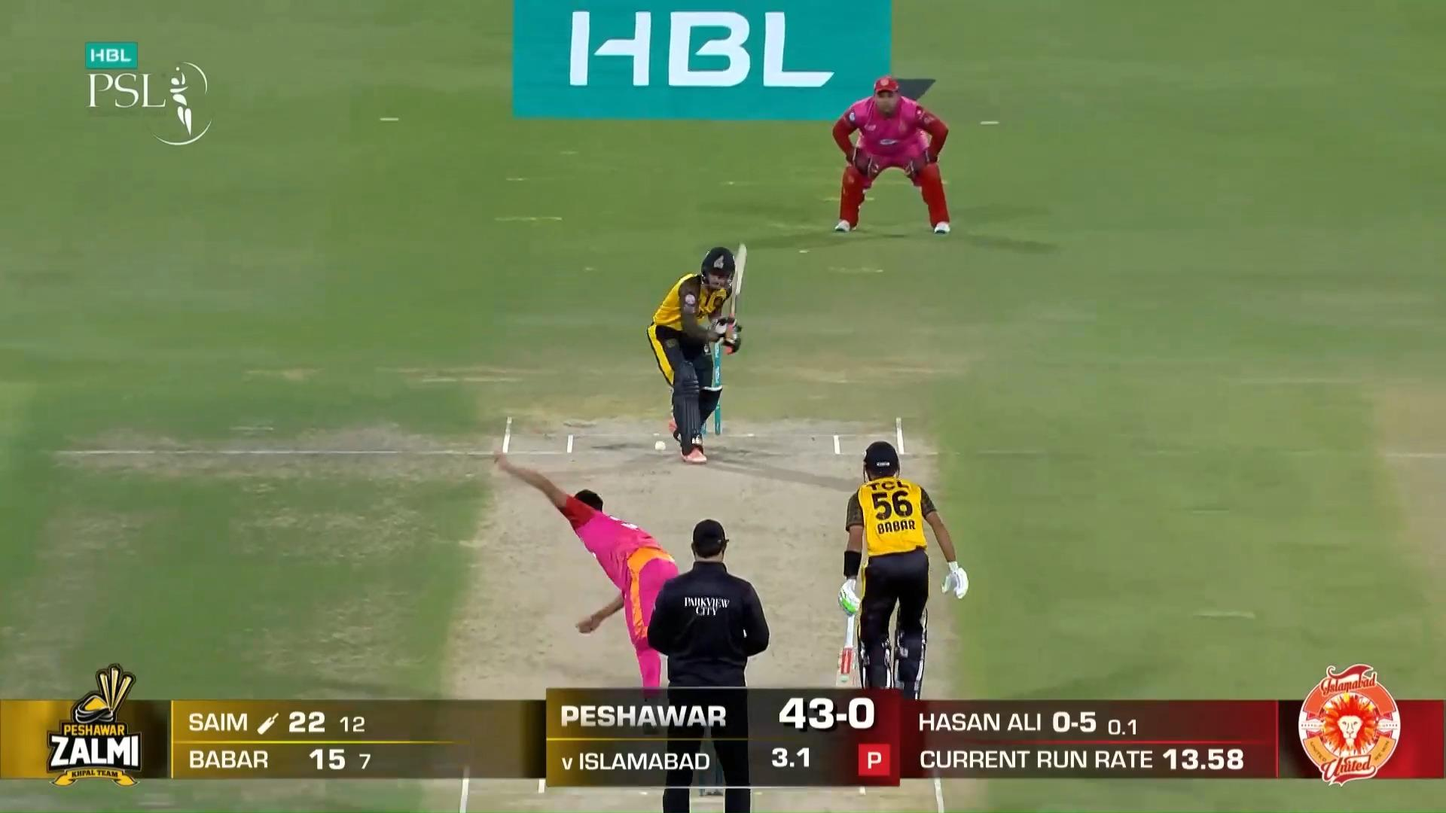batsman: (646, 241, 749, 464)
